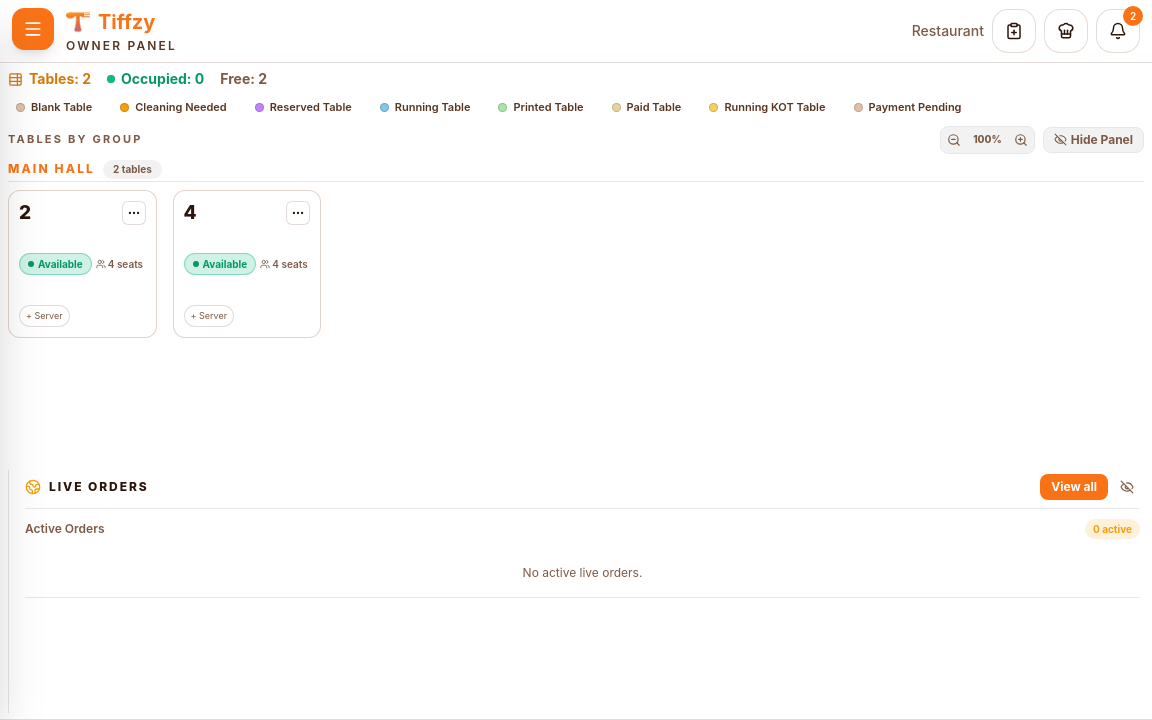
Test: Table Server Assignment Filtering — Authoritative Designation Verification › 2. OwnerLayout '+ Server' Popover Component Verification › shows ONLY active Servers and excludes all non-servers in Table 2 popover
# Click "+ Server" for Table 2
Click the 1st button titled "Assign server for Table 2" at point(44, 316), box [19,305,70,327]
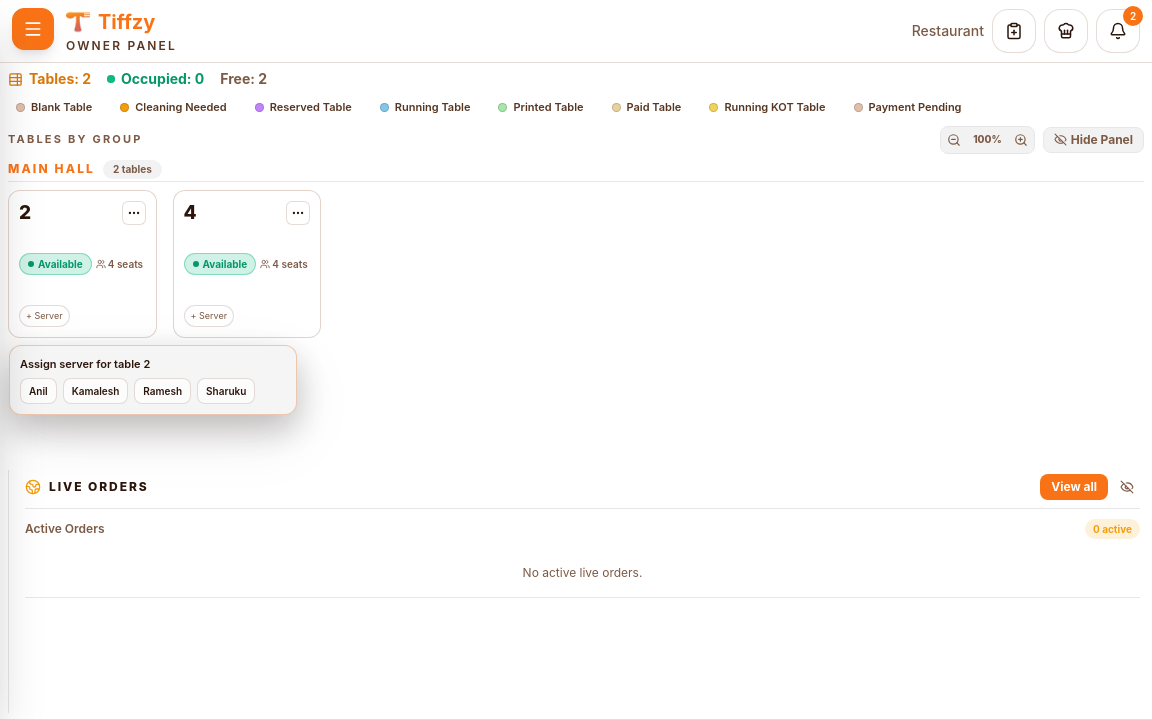
Now the text "Assign server for table 2" is shown, box [20,357,150,371]
Now the button "Kamalesh" is shown, box [63,378,128,404]
Now the button "Sharuku" is shown, box [197,378,255,404]
